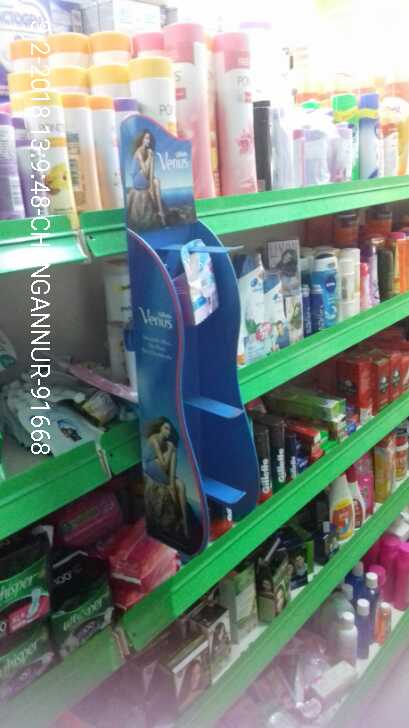beauty: (233, 249, 266, 363), (184, 238, 224, 315), (261, 267, 292, 350), (253, 416, 275, 505), (275, 408, 290, 480)
pharmacy: (1, 536, 53, 628), (41, 585, 124, 641), (1, 625, 59, 691)
